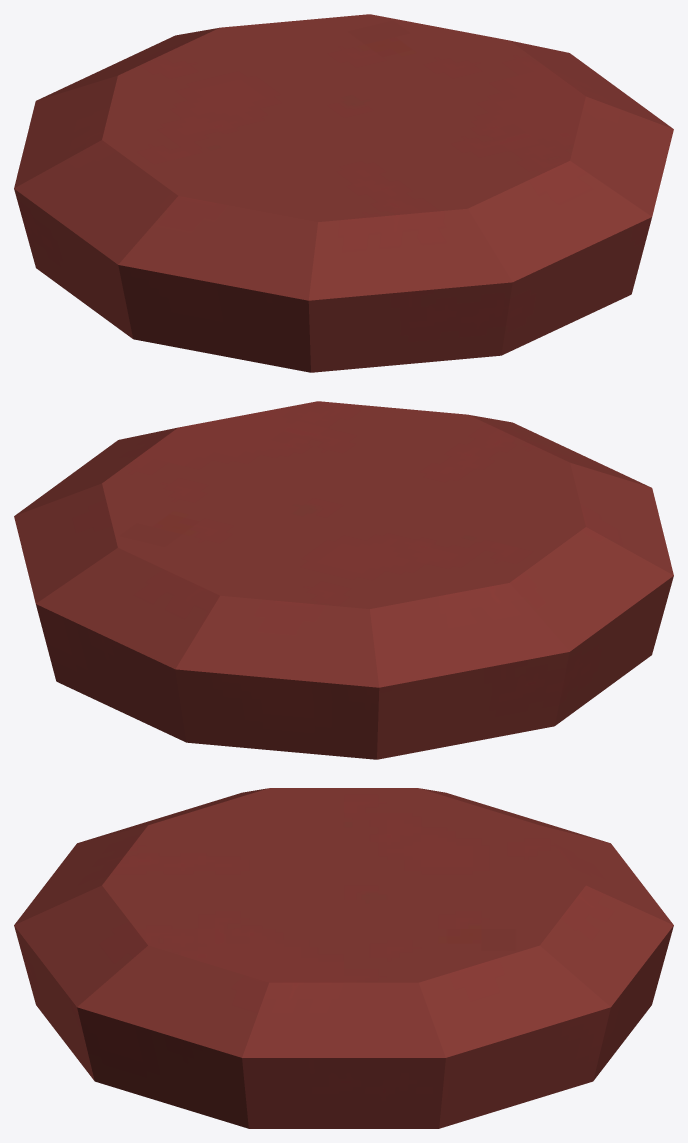
File: cushion_01.glb
3 views of the same model, one above another, from view 1: azimuth 30°, elevation 25°; view 2: azimuth 150°, elevation 25°; view 3: azimuth 270°, elevation 25° (orthographic). The views are drawn at different scales.
Parts seen in each view (by area): view 1: cushion_01; view 2: cushion_01; view 3: cushion_01.
Boxes of the visible parts, x1,y1,x2,y2 form: cushion_01: [14, 14, 673, 372]; cushion_01: [14, 401, 673, 759]; cushion_01: [14, 788, 673, 1128].
Size of the model in its own units: 0.5706 by 0.12 by 0.6.
Materials: 1 (1 with a texture image).
